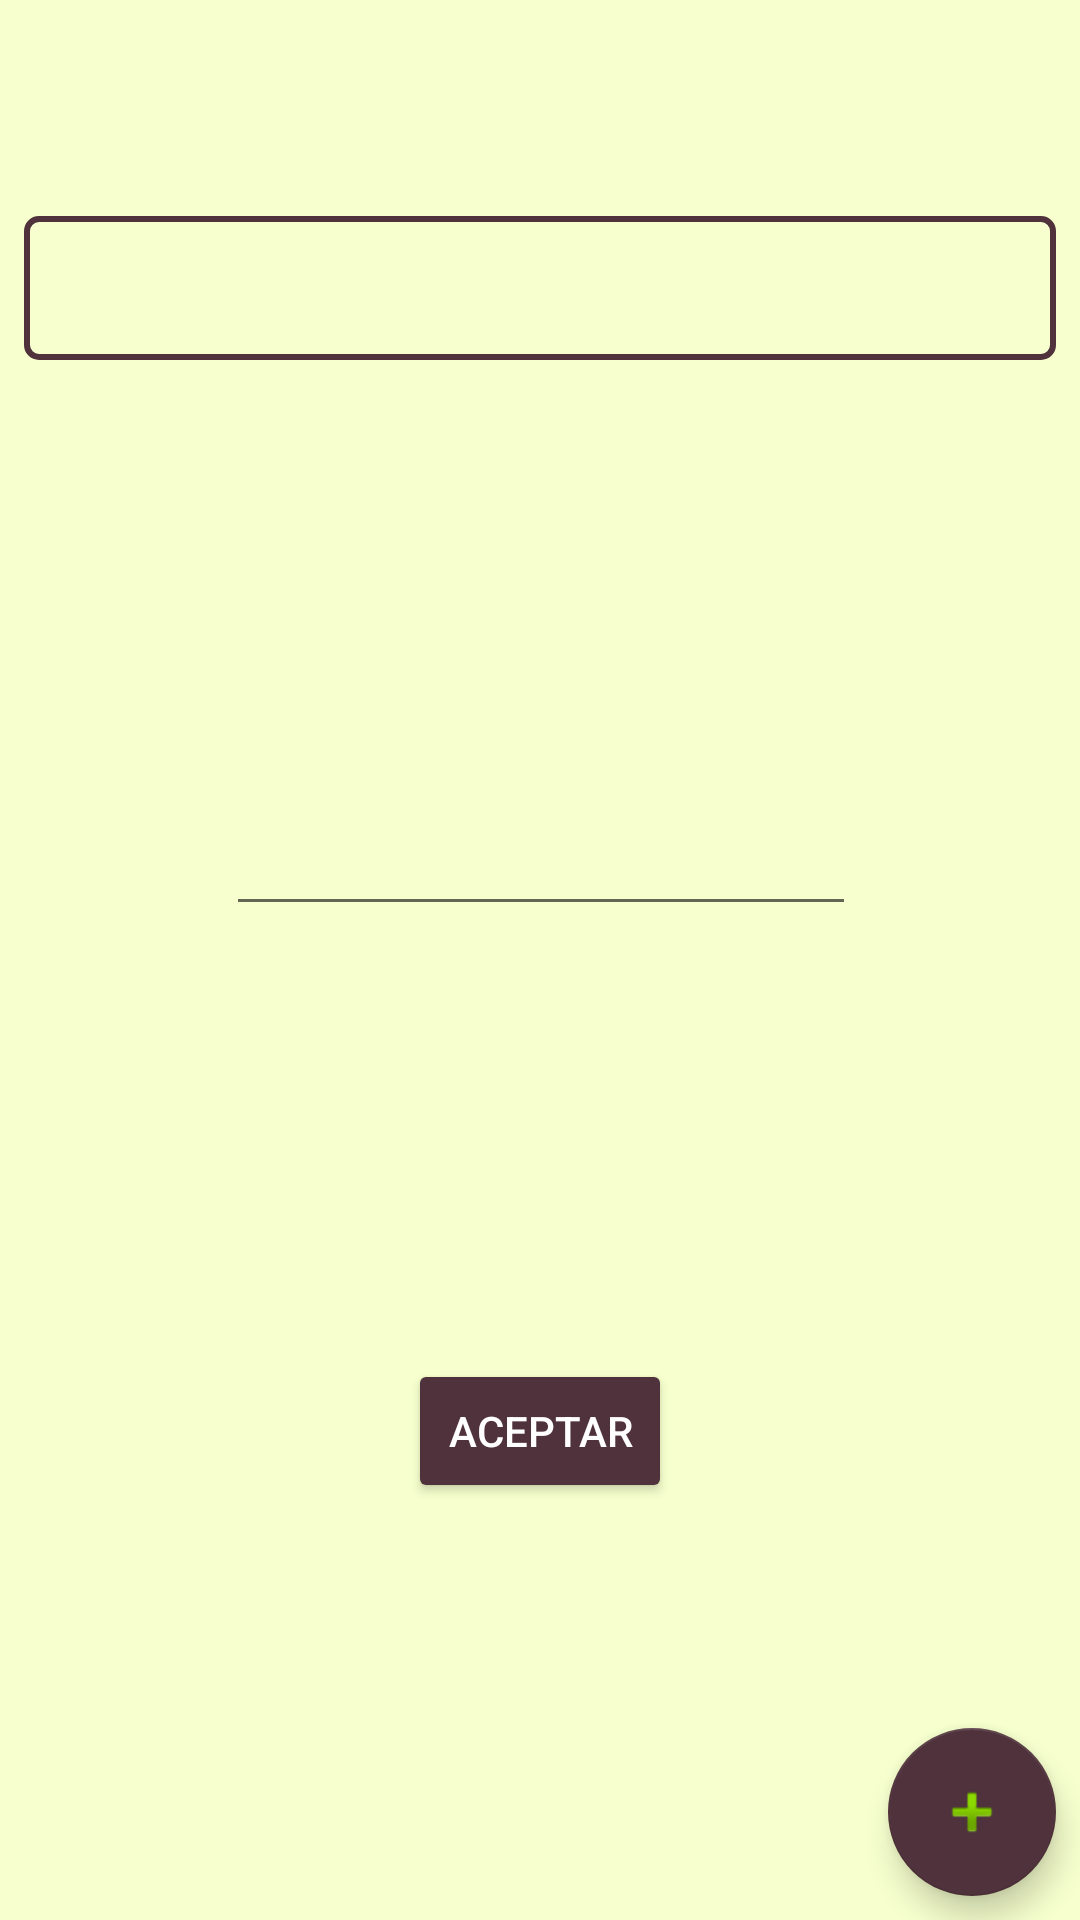

Where icons sit on this 1080w x 1920h app screen, as BBox(x1, y1, x2, y2):
add: BBox(888, 1728, 1056, 1896)
